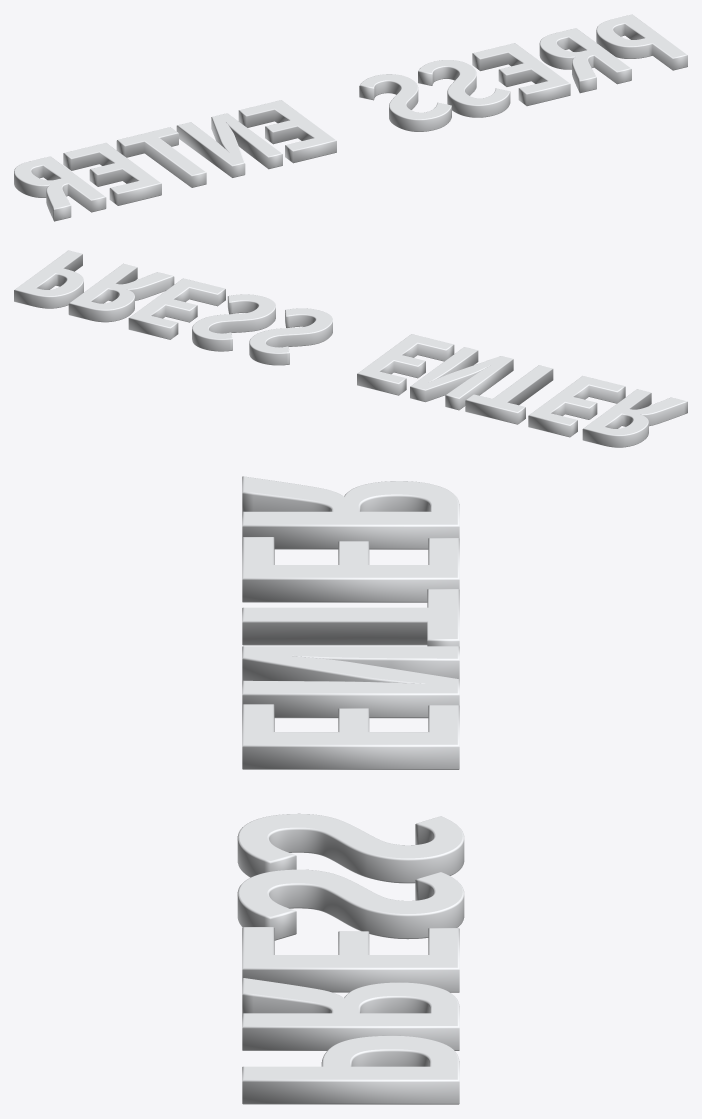
Rendered from press_enter_stage_select.obj.
The picture shows the model from 3 angles, top to bottom: view 1: azimuth 30°, elevation 25°; view 2: azimuth 150°, elevation 25°; view 3: azimuth 270°, elevation 25°; orthographic projection. The views are drawn at different scales.
Parts seen in each view (by area): view 1: press_enter_stage_select; view 2: press_enter_stage_select; view 3: press_enter_stage_select.
Boxes of the visible parts, box(x1,y1,x2,y2) form: press_enter_stage_select: box(14, 14, 687, 221); press_enter_stage_select: box(14, 250, 687, 447); press_enter_stage_select: box(237, 476, 464, 1104).
Size of the model in its own units: 3.6 by 0.0693 by 0.5709.
1 material, 1 textured.
